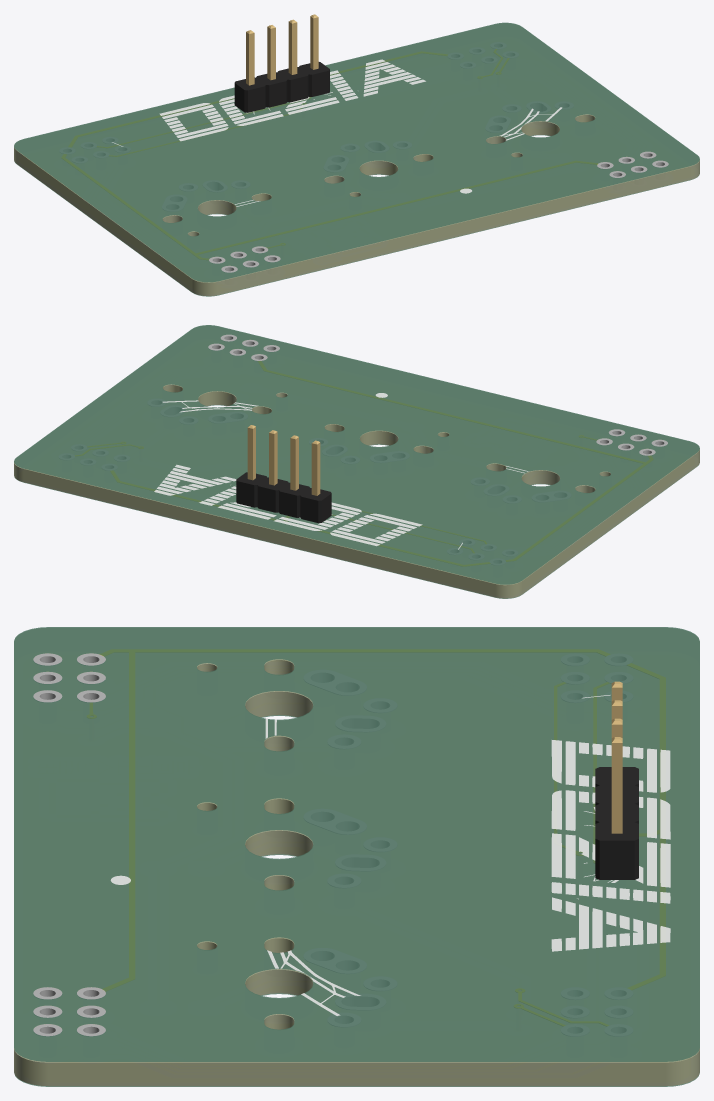
File: dczia-mk9.glb
3 views of the same model, one above another, from view 1: azimuth 30°, elevation 25°; view 2: azimuth 150°, elevation 25°; view 3: azimuth 270°, elevation 25° (orthographic). The views are drawn at different scales.
Parts seen in each view (by area): view 1: =>[0:1:1:9], =>[0:1:1:3]; view 2: =>[0:1:1:9], =>[0:1:1:3]; view 3: =>[0:1:1:9], =>[0:1:1:3].
Part boxes in pixels (x1,y1,x2,y2): =>[0:1:1:9]: (14,22,699,296); =>[0:1:1:3]: (60,14,668,272); =>[0:1:1:9]: (14,325,699,598); =>[0:1:1:3]: (59,334,667,566); =>[0:1:1:9]: (14,627,699,1086); =>[0:1:1:3]: (33,650,665,1036).
Size of the model in its own units: 0.06 by 0.0115 by 0.04.
Materials: 2 (2 with a texture image).
